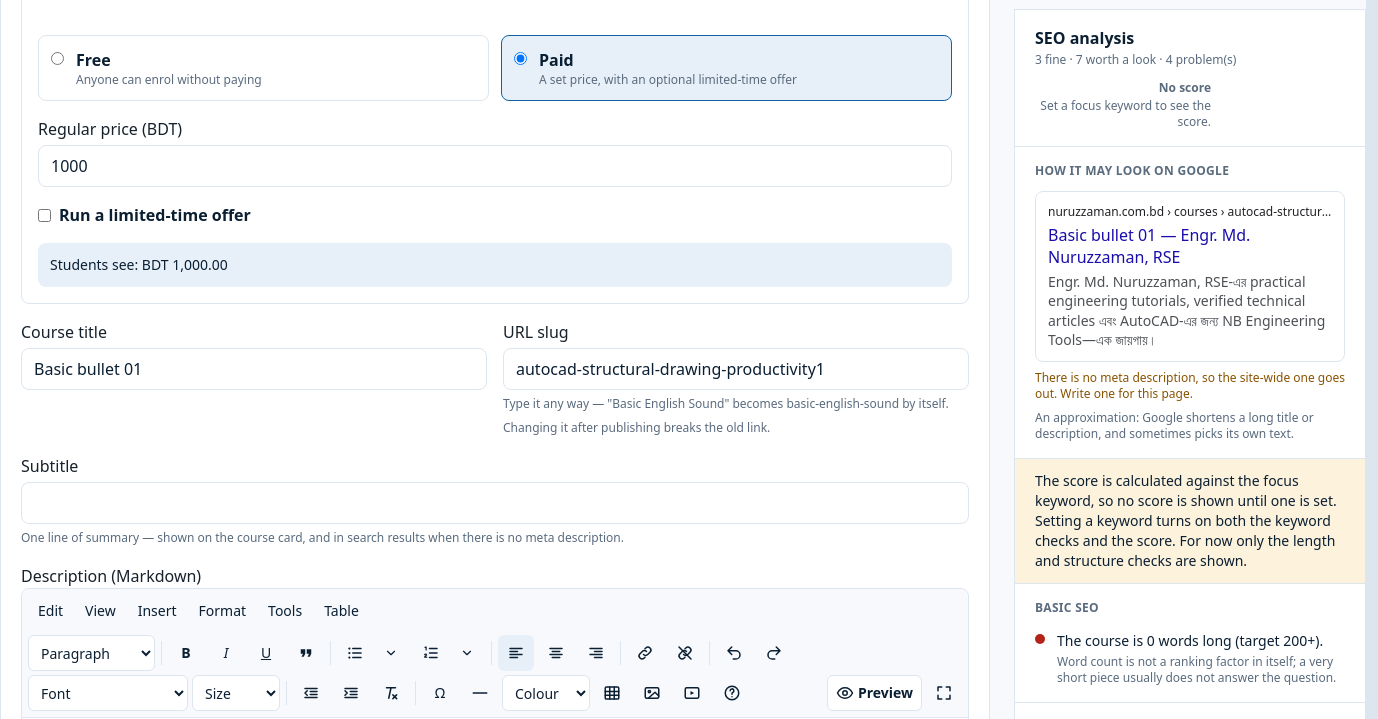
Test case: CourseEditor slug and publishing › turns whatever was typed into a URL slug when the field is left
(page scrolled)
Replace the text in the field labelled "URL slug" with "Basic English Sound" at (736, 369), box [503,348,969,390]
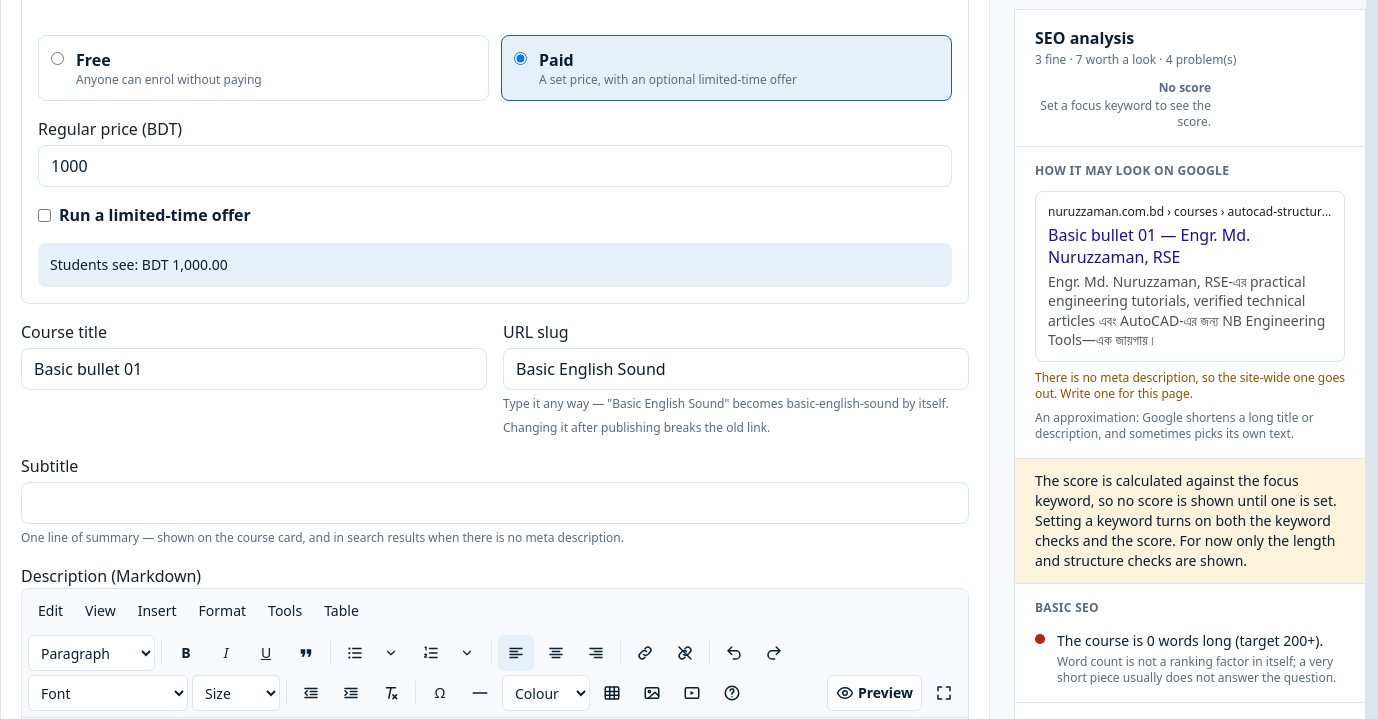
Leave the field labelled "URL slug", box [503,348,969,390]
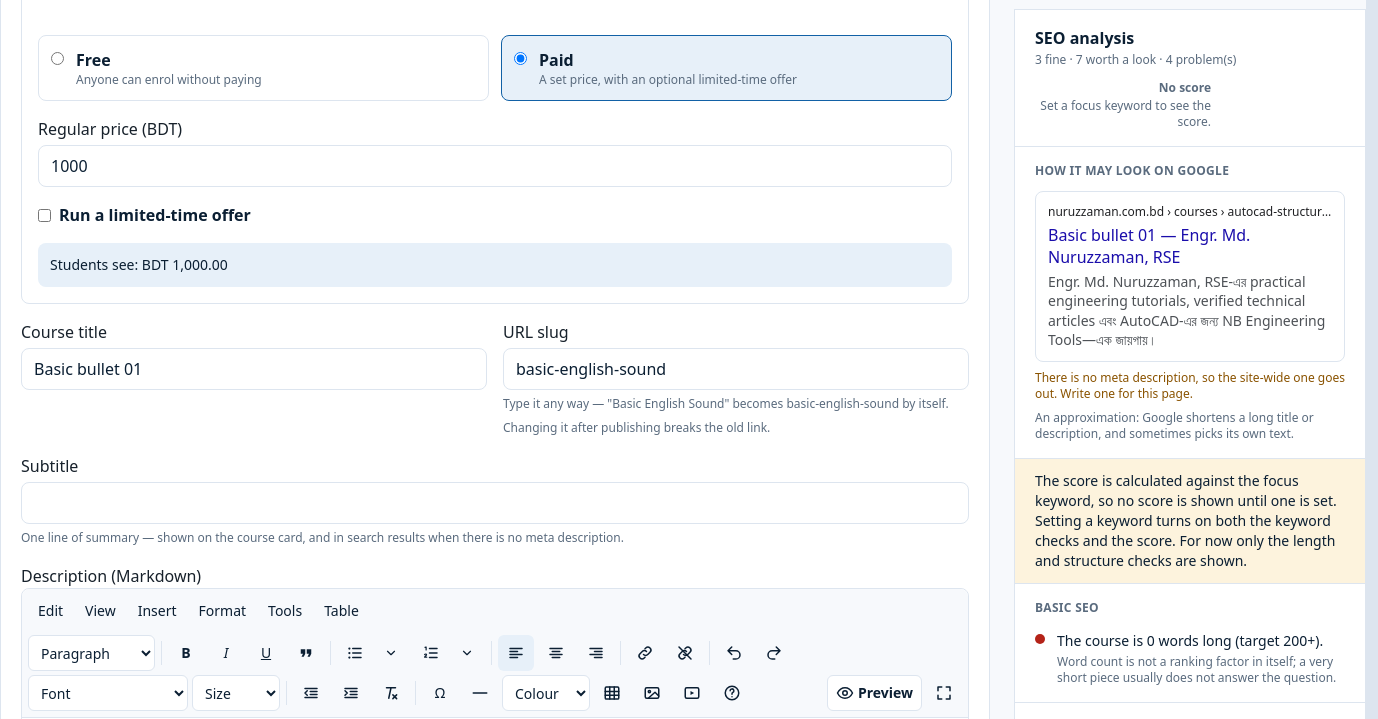
Now the field labelled "URL slug" holds "basic-english-sound", box [503,348,969,390]
